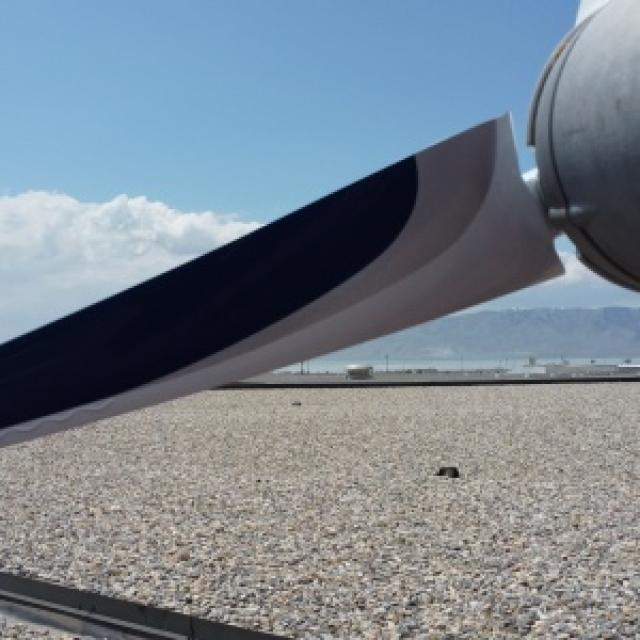healthy: (4, 384, 638, 638)
